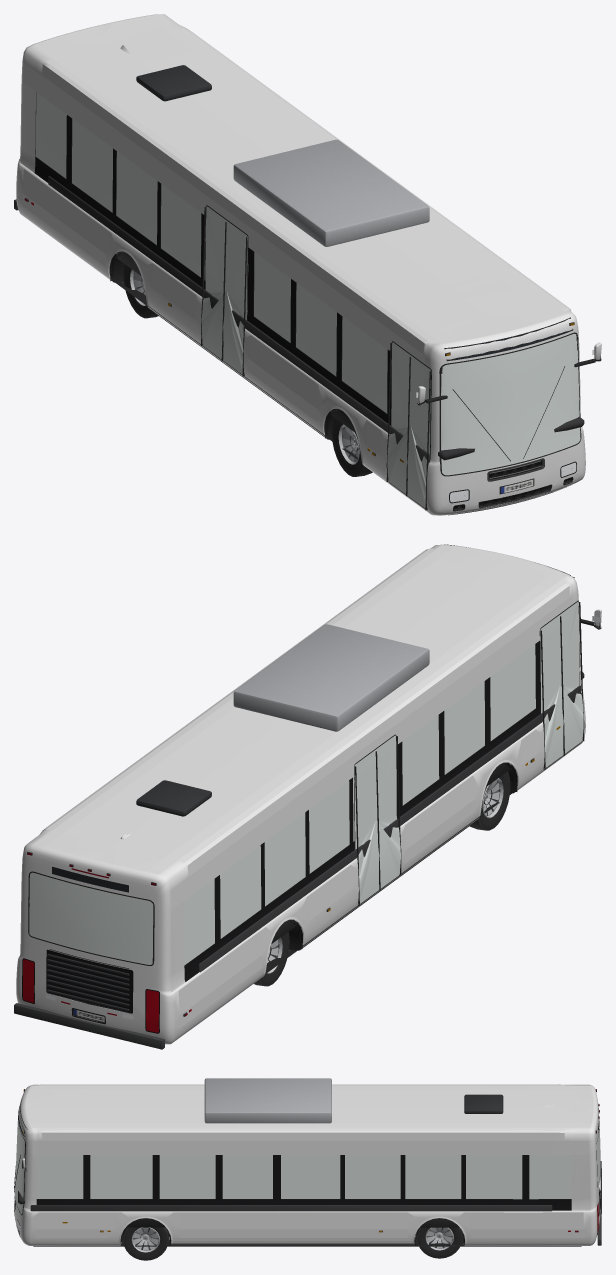
The model's file is TrafficBusA_LOD0_unity_test.fbx.
3 renders of one model, top to bottom at view 1: azimuth 30°, elevation 25°; view 2: azimuth 150°, elevation 25°; view 3: azimuth 270°, elevation 25°, orthographic. The views are drawn at different scales.
Visible parts, largest first — view 1: Body_LOD0, Trim_LOD0, Glass_LOD0, Interior_LOD0, Wheel_FR_LOD0, Wheel_RR_LOD0; view 2: Body_LOD0, Trim_LOD0, Glass_LOD0, Interior_LOD0, Wheel_FR_LOD0, Lights_LOD0, Wheel_RR_LOD0; view 3: Body_LOD0, Glass_LOD0, Trim_LOD0, Interior_LOD0, Wheel_FL_LOD0, Wheel_RL_LOD0.
Part boxes in pixels (x1,y1,x2,y2): Body_LOD0: [16, 14, 601, 515]; Trim_LOD0: [14, 65, 595, 515]; Glass_LOD0: [35, 92, 387, 413]; Interior_LOD0: [48, 176, 601, 462]; Wheel_FR_LOD0: [331, 418, 372, 476]; Wheel_RR_LOD0: [123, 264, 158, 318]; Body_LOD0: [16, 544, 601, 1044]; Trim_LOD0: [14, 544, 601, 1049]; Glass_LOD0: [184, 644, 535, 965]; Interior_LOD0: [29, 623, 601, 972]; Wheel_FR_LOD0: [469, 771, 510, 830]; Lights_LOD0: [23, 726, 560, 1032]; Wheel_RR_LOD0: [254, 932, 289, 986]; Body_LOD0: [14, 1084, 600, 1245]; Glass_LOD0: [36, 1155, 571, 1199]; Trim_LOD0: [14, 1078, 601, 1246]; Interior_LOD0: [18, 1167, 552, 1242]; Wheel_FL_LOD0: [122, 1227, 168, 1260]; Wheel_RL_LOD0: [416, 1227, 462, 1258].
Size of what is drawn, in the model's own units: 2.98 by 3.2 by 12.01.
